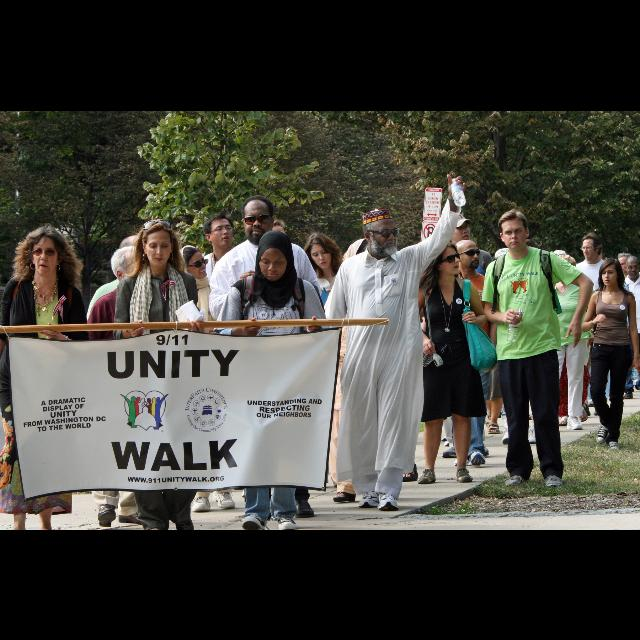head: (140, 218, 176, 268), (30, 226, 64, 274), (257, 237, 291, 283), (112, 244, 148, 286), (364, 212, 398, 255), (110, 246, 146, 286), (242, 198, 276, 240), (498, 211, 530, 251), (176, 245, 208, 279), (202, 214, 234, 248), (308, 232, 336, 270), (432, 242, 462, 274), (368, 212, 394, 244), (455, 238, 481, 270), (447, 211, 471, 243), (601, 256, 621, 286), (556, 254, 576, 280), (582, 233, 600, 261), (495, 248, 515, 266), (521, 240, 539, 260), (556, 256, 574, 276), (618, 253, 634, 274)
person: (308, 163, 470, 514), (208, 193, 324, 523), (479, 207, 598, 491), (331, 206, 422, 508), (79, 230, 173, 512), (399, 237, 501, 488), (156, 242, 242, 516), (428, 206, 512, 460), (185, 210, 252, 496), (429, 236, 508, 472), (296, 230, 358, 490), (498, 236, 566, 448), (473, 244, 532, 436), (542, 244, 598, 422), (542, 251, 594, 431), (566, 230, 618, 410)
